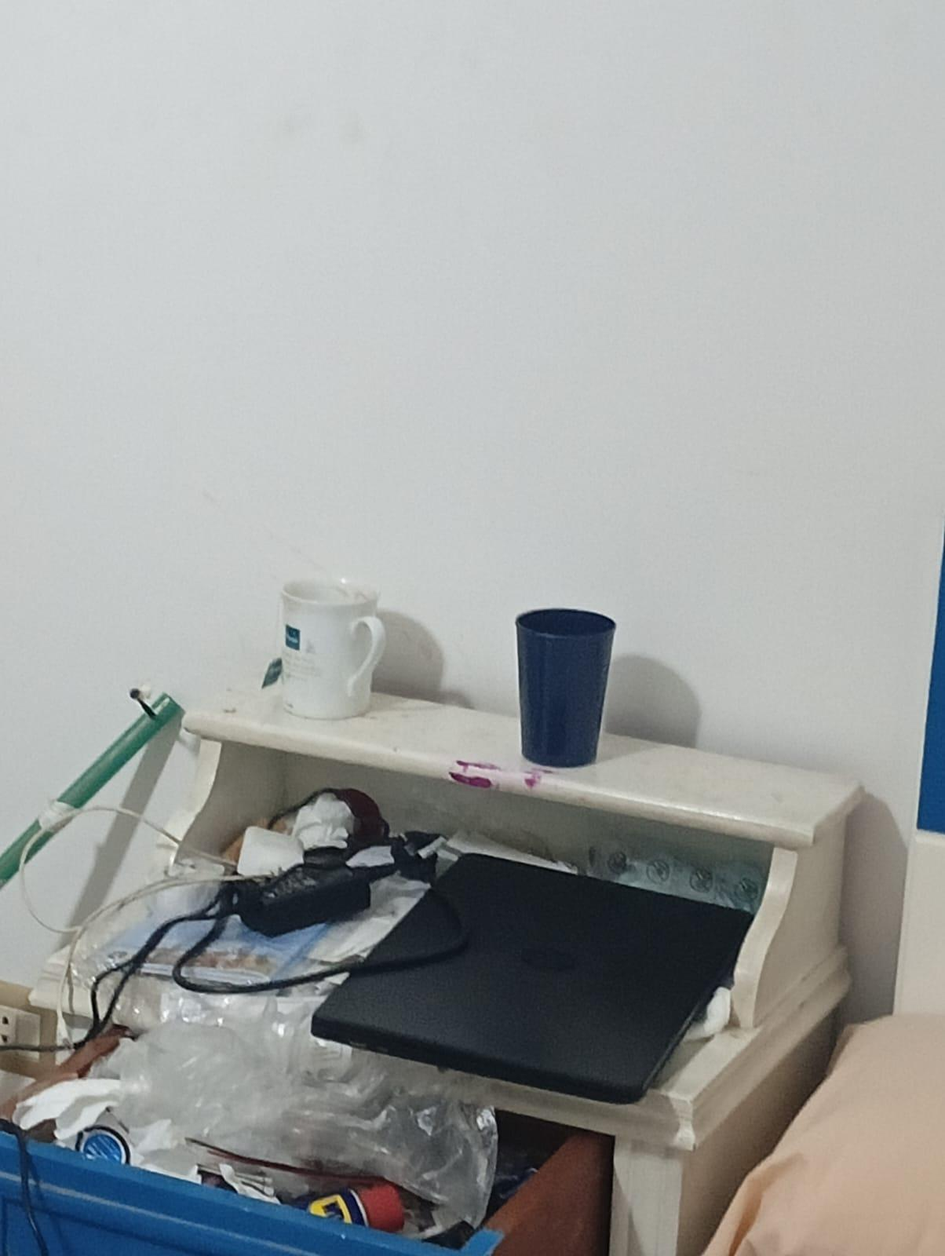cup: (516, 608, 615, 766), (282, 579, 385, 718)
